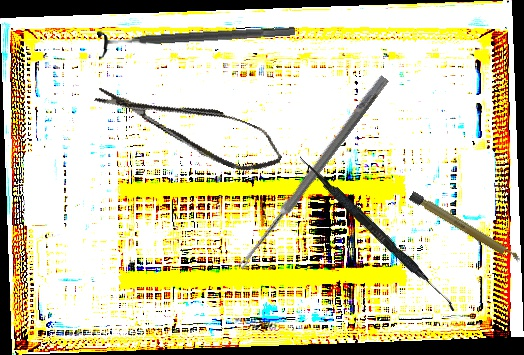Fixation Ring: (97, 16, 296, 61)
Micro Scissor: (90, 66, 289, 184)
Scalpel Handle: (408, 191, 523, 265)
Spatula Surgical: (294, 154, 461, 312)
Surgical Spoon: (235, 73, 390, 273)
